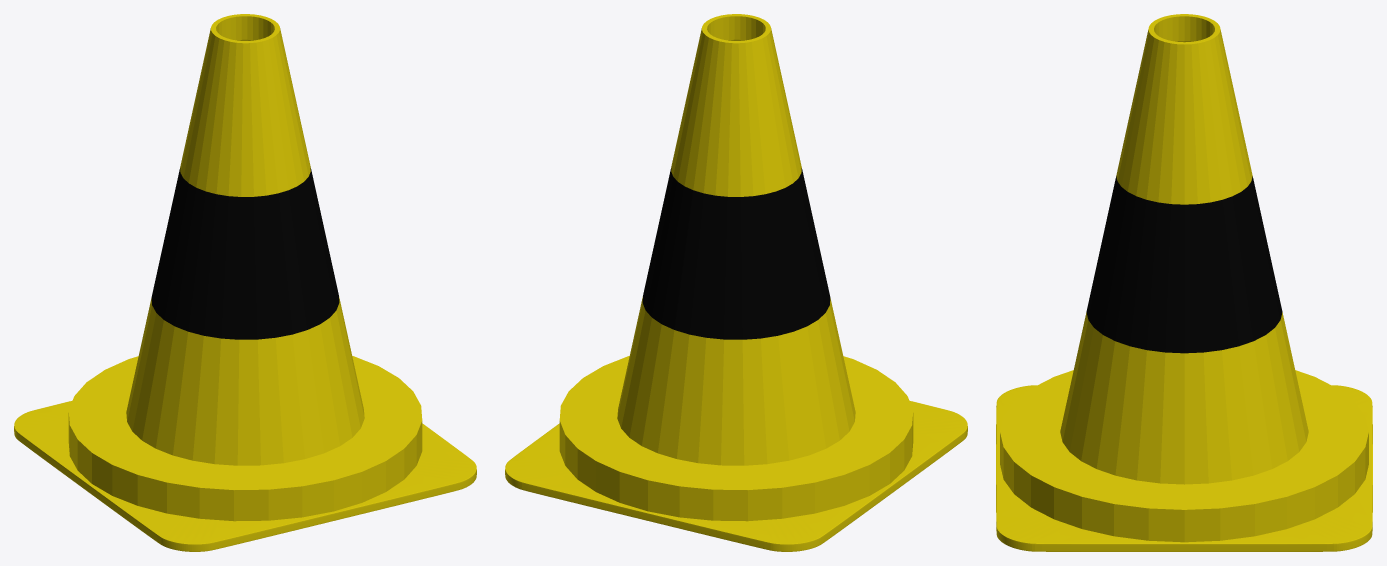
Rendered from yellow.fbx.
3 renders of one model, left to right at view 1: azimuth 30°, elevation 25°; view 2: azimuth 150°, elevation 25°; view 3: azimuth 270°, elevation 25°, orthographic. The views are drawn at different scales.
Parts seen in each view (by area): view 1: YellowConeExport; view 2: YellowConeExport; view 3: YellowConeExport.
Part boxes in pixels (x1,y1,x2,y2): YellowConeExport: [14, 14, 476, 551]; YellowConeExport: [505, 14, 967, 551]; YellowConeExport: [996, 14, 1372, 551].
Size of the model in its own units: 23.5 by 30.5 by 23.5.
